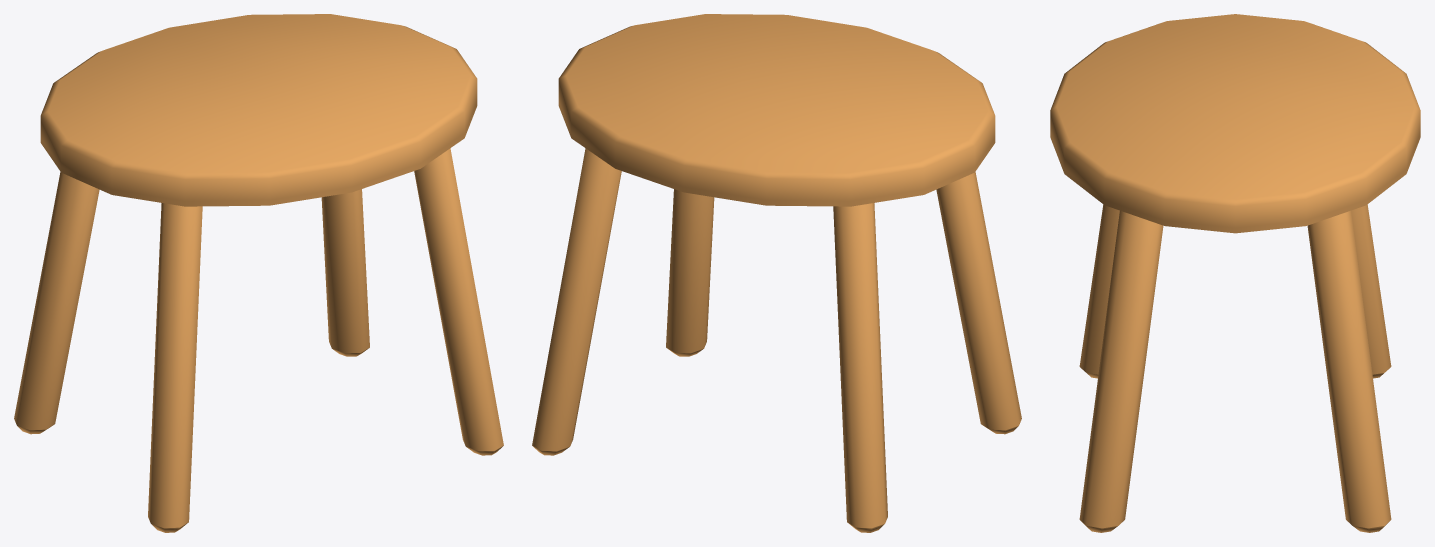
Rendered from pieni_poyta.fbx.
3 renders of one model, left to right at view 1: azimuth 30°, elevation 25°; view 2: azimuth 150°, elevation 25°; view 3: azimuth 270°, elevation 25°, orthographic.
Visible parts, largest first — view 1: pieni_poyta, jalat; view 2: pieni_poyta, jalat; view 3: pieni_poyta, jalat.
Part boxes in pixels (x1,y1,x2,y2): pieni_poyta: (40,14,477,206); jalat: (14,148,503,532); pieni_poyta: (558,14,995,206); jalat: (532,148,1021,532); pieni_poyta: (1050,14,1420,233); jalat: (1079,204,1391,532).
Size of the model in its own units: 69.54 by 58.13 by 56.68.
